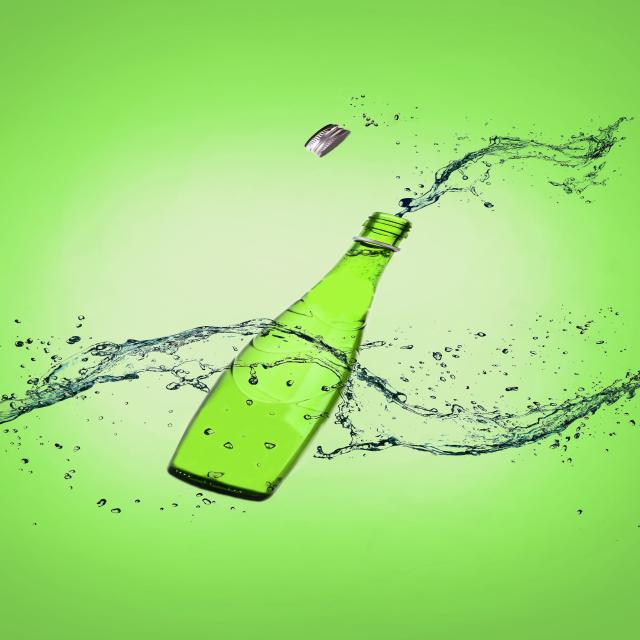Bottle: (169, 213, 411, 500)
